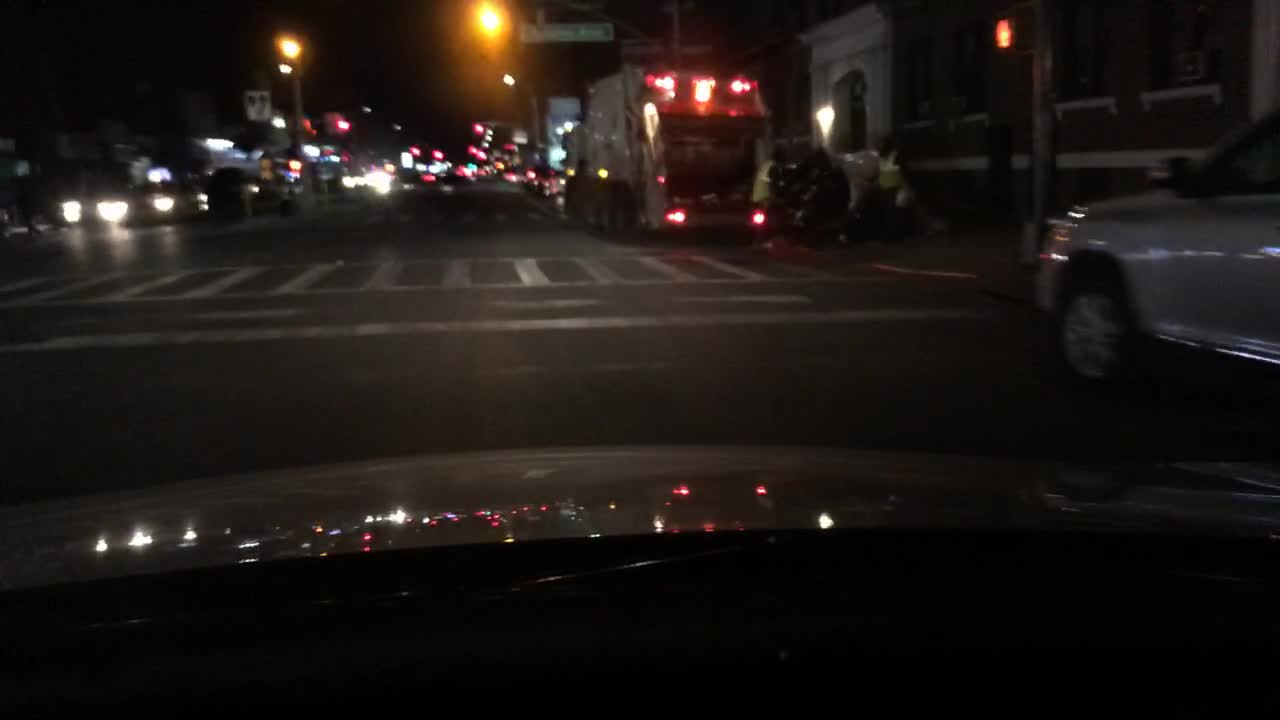car: (1030, 102, 1278, 365), (137, 166, 208, 220), (54, 183, 132, 228), (535, 169, 570, 201), (501, 158, 539, 183), (447, 163, 480, 186), (407, 167, 443, 188)
person: (861, 139, 909, 240), (797, 149, 846, 246), (747, 146, 794, 244)
traffic light: (992, 19, 1016, 49), (338, 114, 351, 137), (429, 146, 443, 163), (407, 142, 420, 158), (287, 157, 302, 170), (475, 148, 486, 163), (472, 121, 481, 133), (466, 142, 475, 154)
traffic sign: (518, 23, 616, 44), (244, 88, 272, 121)
truck: (560, 62, 772, 240)
